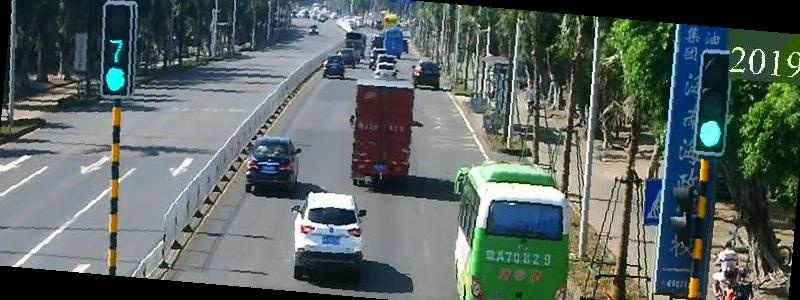green: (693, 113, 732, 158), (94, 65, 138, 99)
greentime: (98, 29, 137, 65)
